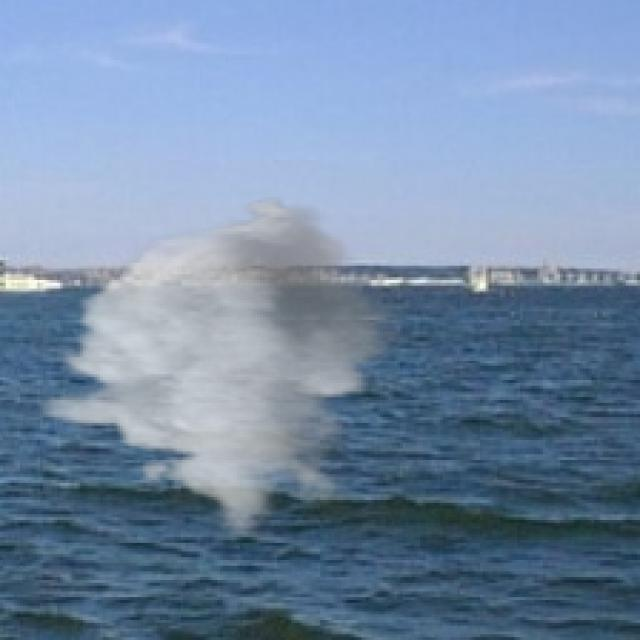smoke: (37, 194, 412, 537)
